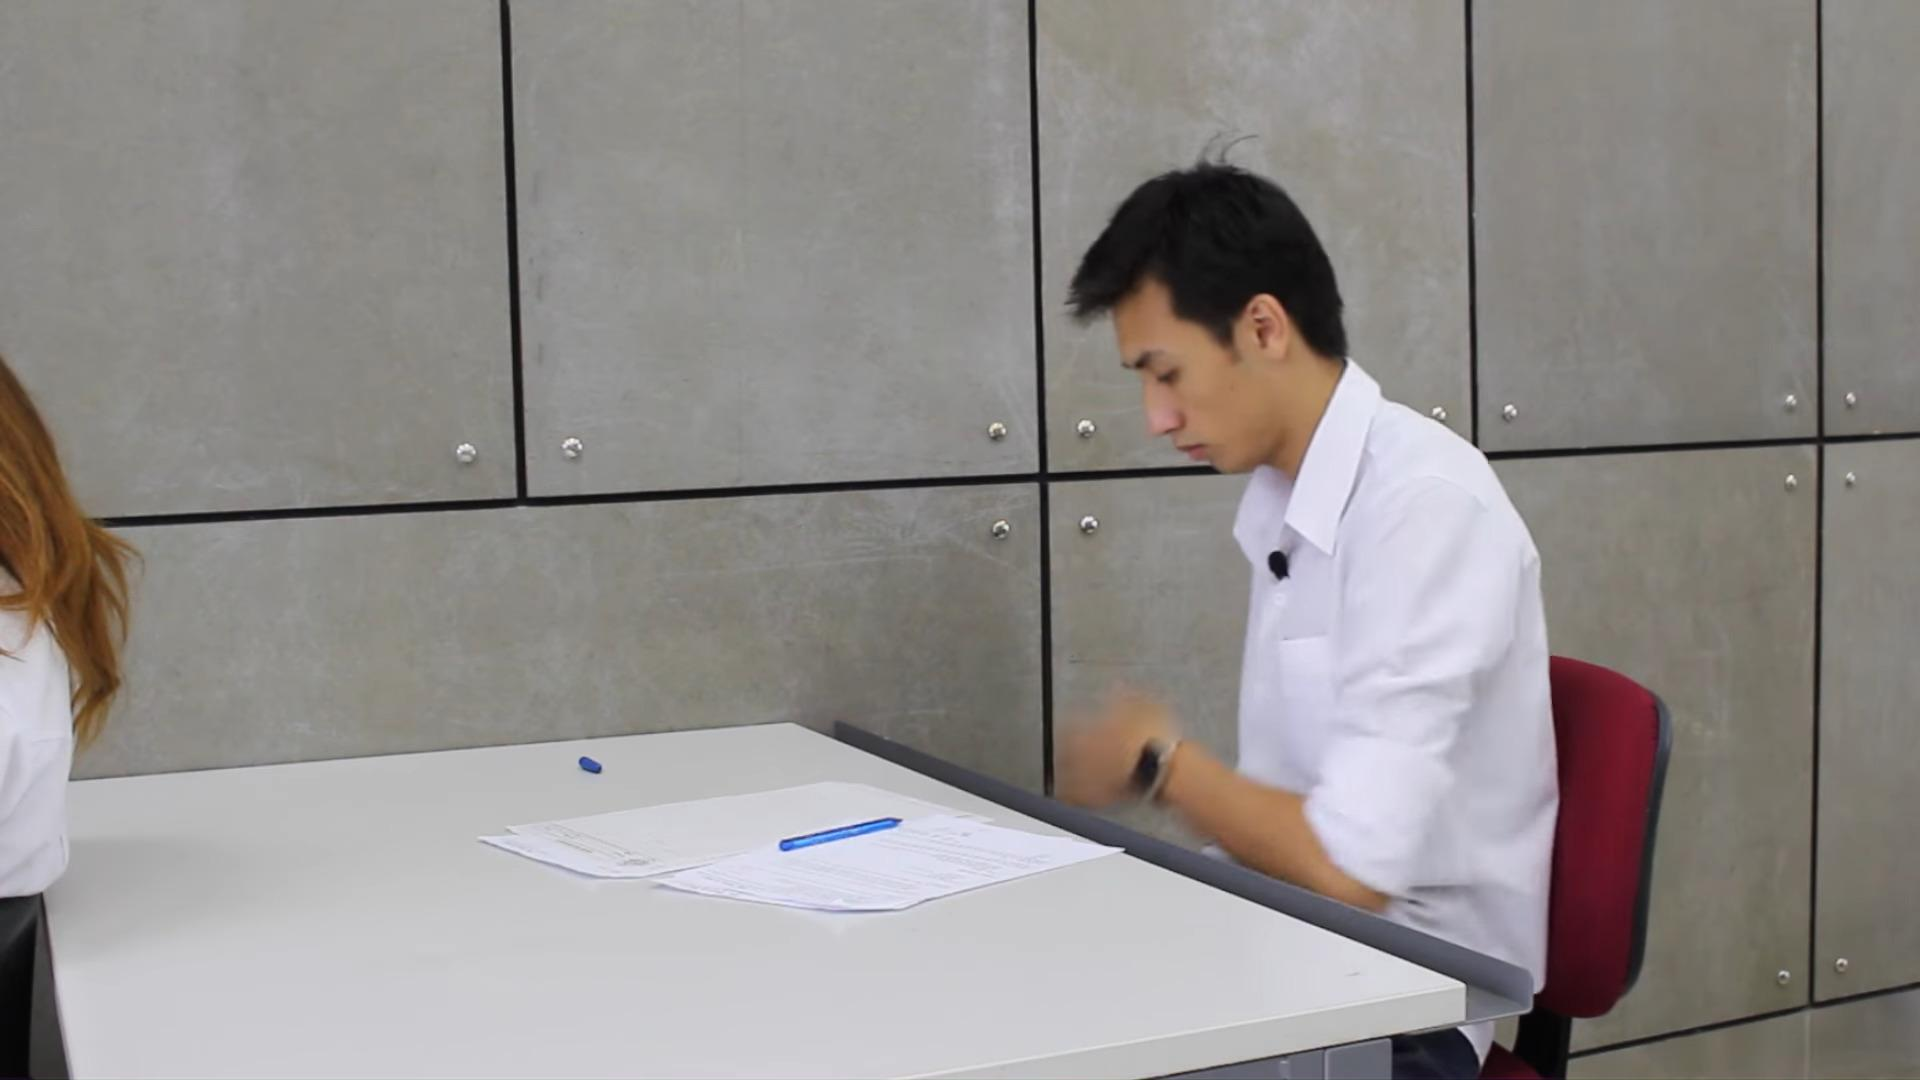good: (451, 111, 1610, 975)
